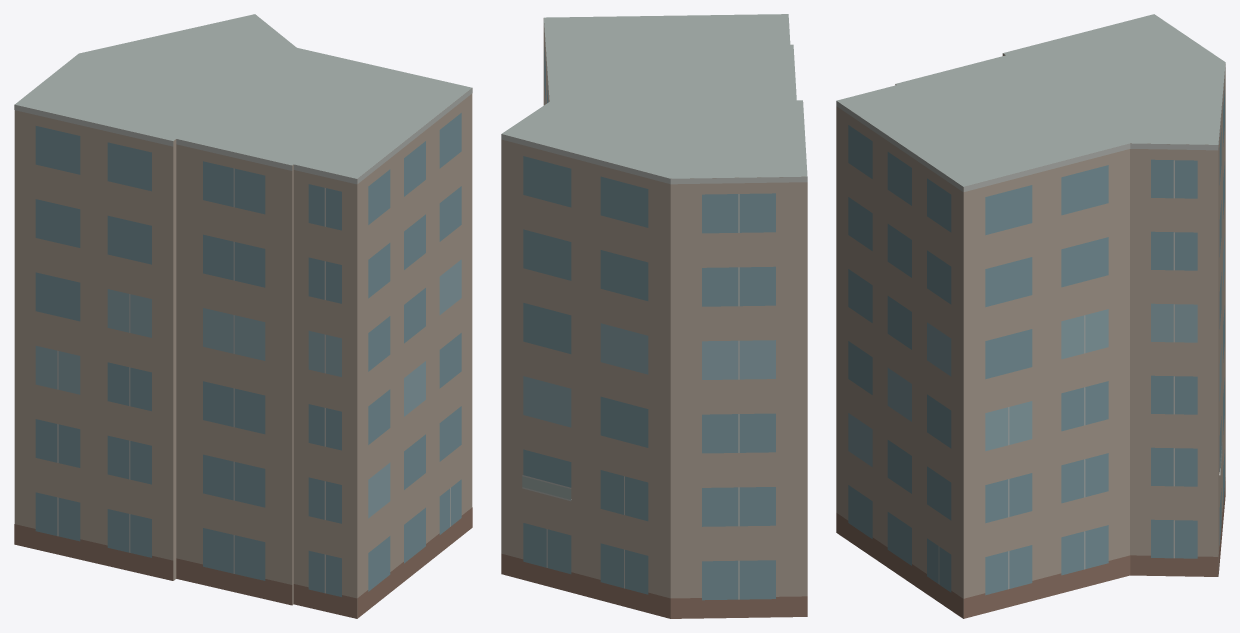
The model's file is survey-upis-32911053.glb.
3 views of the same model, side by side, from view 1: azimuth 30°, elevation 25°; view 2: azimuth 150°, elevation 25°; view 3: azimuth 270°, elevation 25° (orthographic).
Parts seen in each view (by area): view 1: survey-upis-32911053.tmp; view 2: survey-upis-32911053.tmp; view 3: survey-upis-32911053.tmp.
Part boxes in pixels (x1,y1,x2,y2): survey-upis-32911053.tmp: (14, 14, 472, 618); survey-upis-32911053.tmp: (501, 14, 807, 618); survey-upis-32911053.tmp: (836, 14, 1225, 618).
Size of the model in its own units: 16.74 by 19.5 by 15.93.
